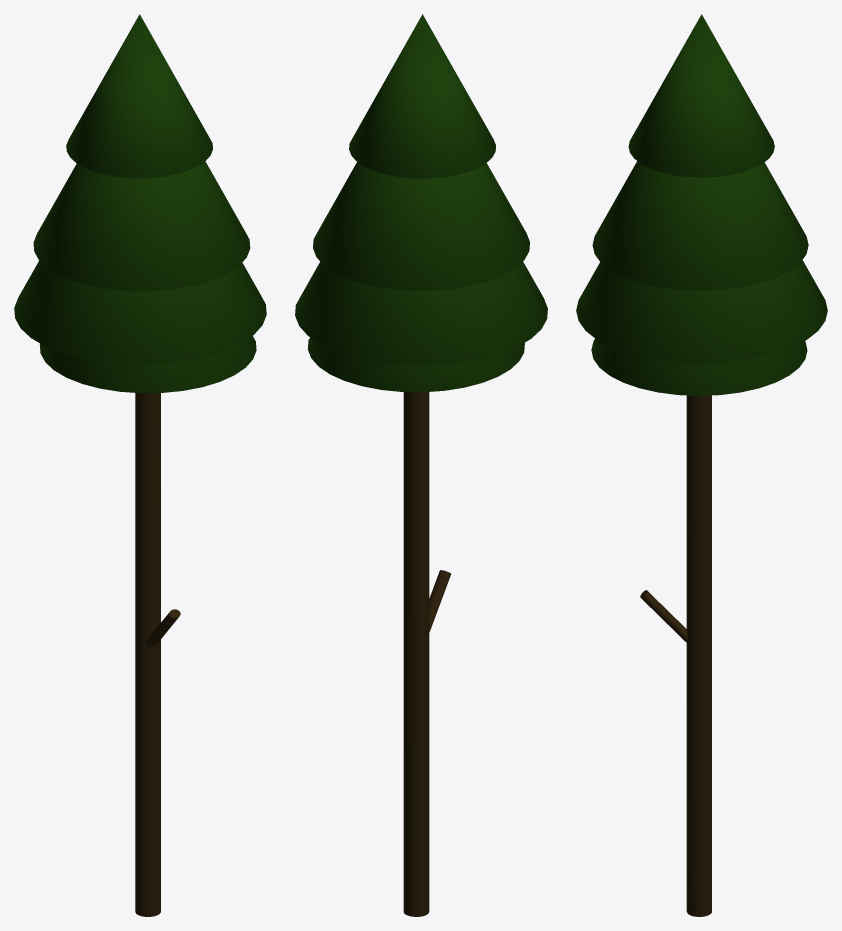
The model's file is Tree.fbx.
3 views of the same model, side by side, from view 1: azimuth 30°, elevation 25°; view 2: azimuth 150°, elevation 25°; view 3: azimuth 270°, elevation 25° (orthographic).
Parts seen in each view (by area): view 1: Cylinder; view 2: Cylinder; view 3: Cylinder.
Boxes of the visible parts, <box> form: Cylinder: <box>14,14,266,916</box>; Cylinder: <box>295,14,547,916</box>; Cylinder: <box>576,14,827,916</box>.
Size of the model in its own units: 1017 by 3986 by 1017.
